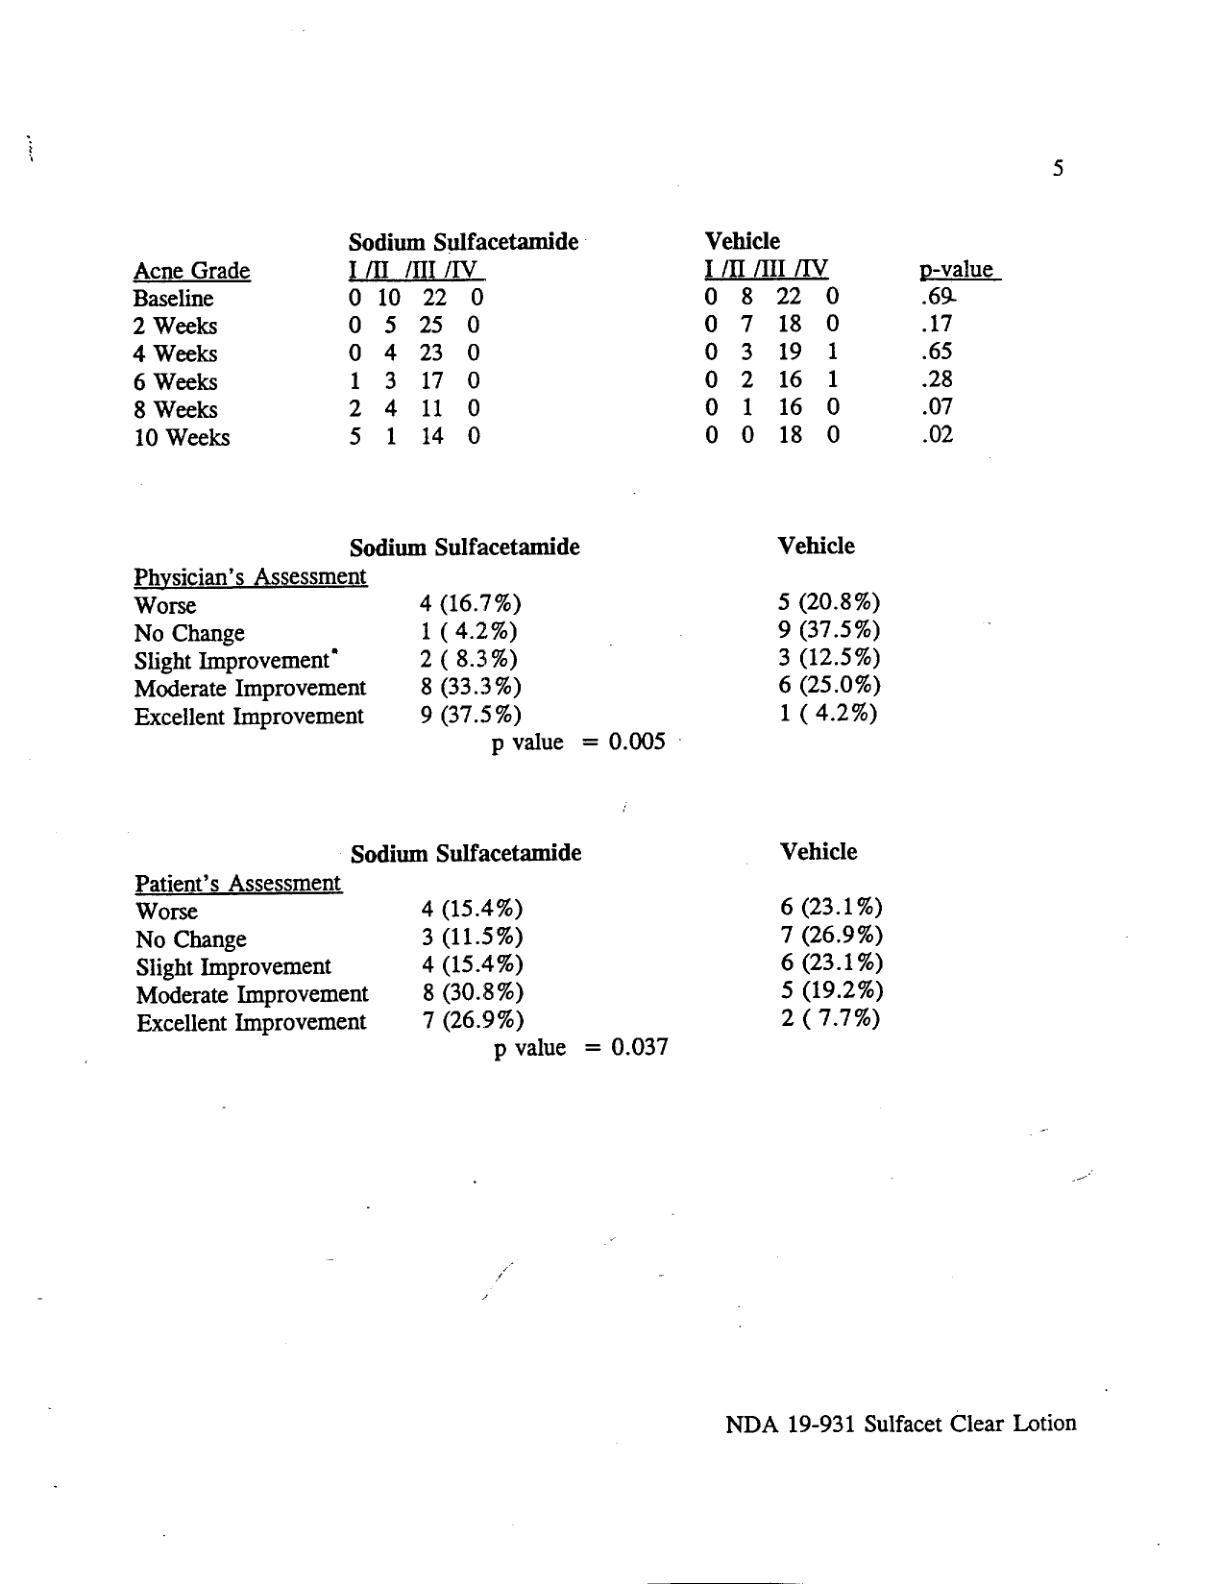nolines: (129, 233, 1005, 450), (134, 843, 888, 1060), (131, 539, 885, 751)
